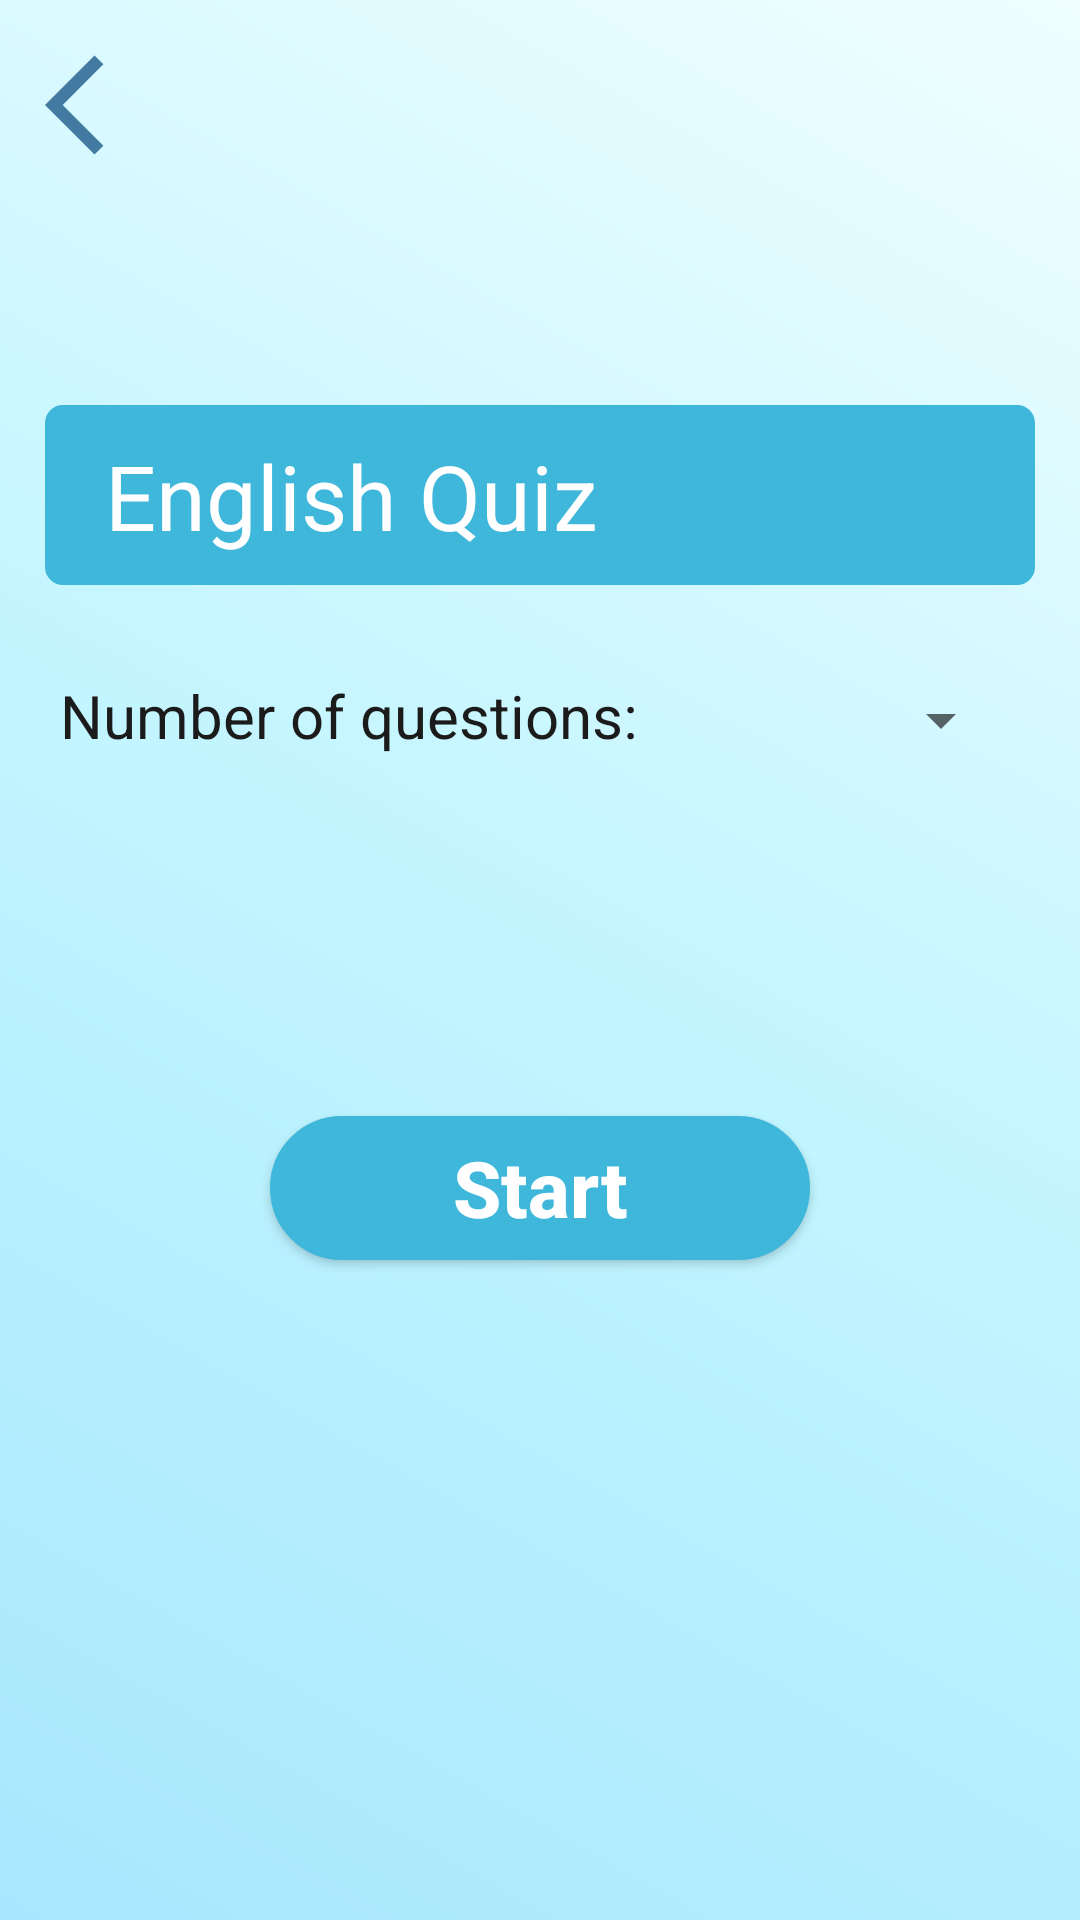

Point at icon controls on the screen. Image size 1080x1920, points as (x=x, y=y).
goback: (x=74, y=105)
